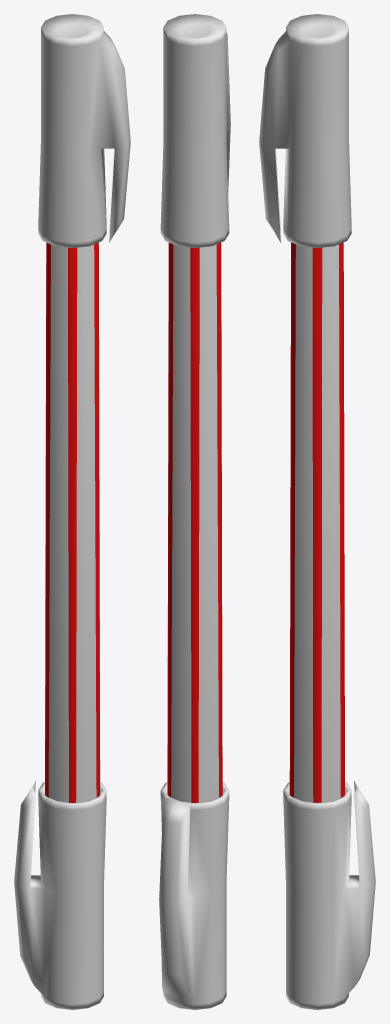
The model's file is pen_3.FBX.
The picture shows the model from 3 angles, left to right: view 1: azimuth 90°, elevation 25°; view 2: azimuth 150°, elevation 25°; view 3: azimuth 270°, elevation 25°; orthographic projection.
Visible parts, largest first — view 1: pen_3, pen_3_cup_end, pen_3_bottom; view 2: pen_3, pen_3_cup_end, pen_3_bottom; view 3: pen_3, pen_3_cup_end, pen_3_bottom.
Boxes of the visible parts, x1=… form: pen_3: x1=45, y1=242, x2=100, y2=802; pen_3_cup_end: x1=38, y1=14, x2=130, y2=247; pen_3_bottom: x1=14, y1=781, x2=106, y2=1009; pen_3: x1=167, y1=242, x2=222, y2=802; pen_3_cup_end: x1=160, y1=14, x2=230, y2=247; pen_3_bottom: x1=159, y1=782, x2=229, y2=1009; pen_3: x1=289, y1=242, x2=344, y2=802; pen_3_cup_end: x1=259, y1=14, x2=351, y2=247; pen_3_bottom: x1=283, y1=781, x2=375, y2=1009.
Size of the model in its own units: 119 by 1860 by 203.
